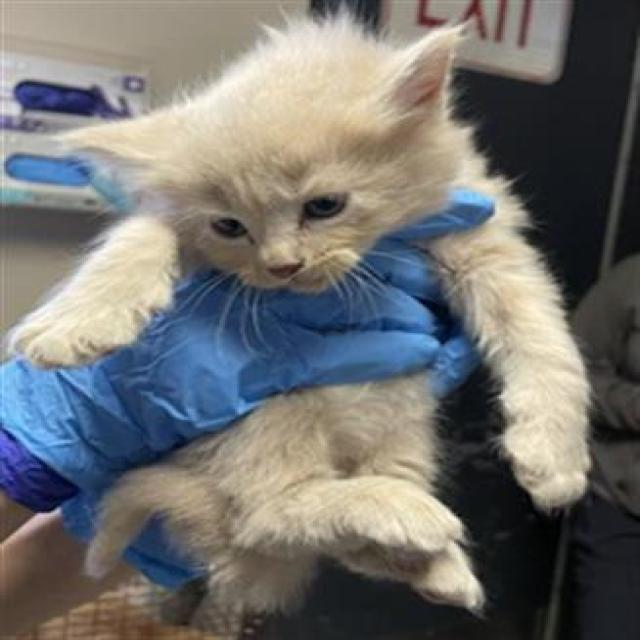domestic_long_hair_cat: (51, 19, 480, 314)
